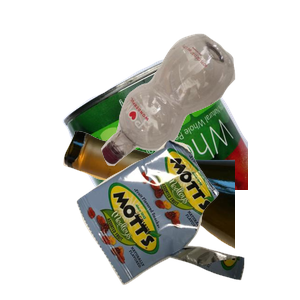glass: (60, 128, 300, 300)
metal: (60, 48, 300, 228)
plastic: (99, 31, 300, 189)
trash: (74, 137, 300, 300)
